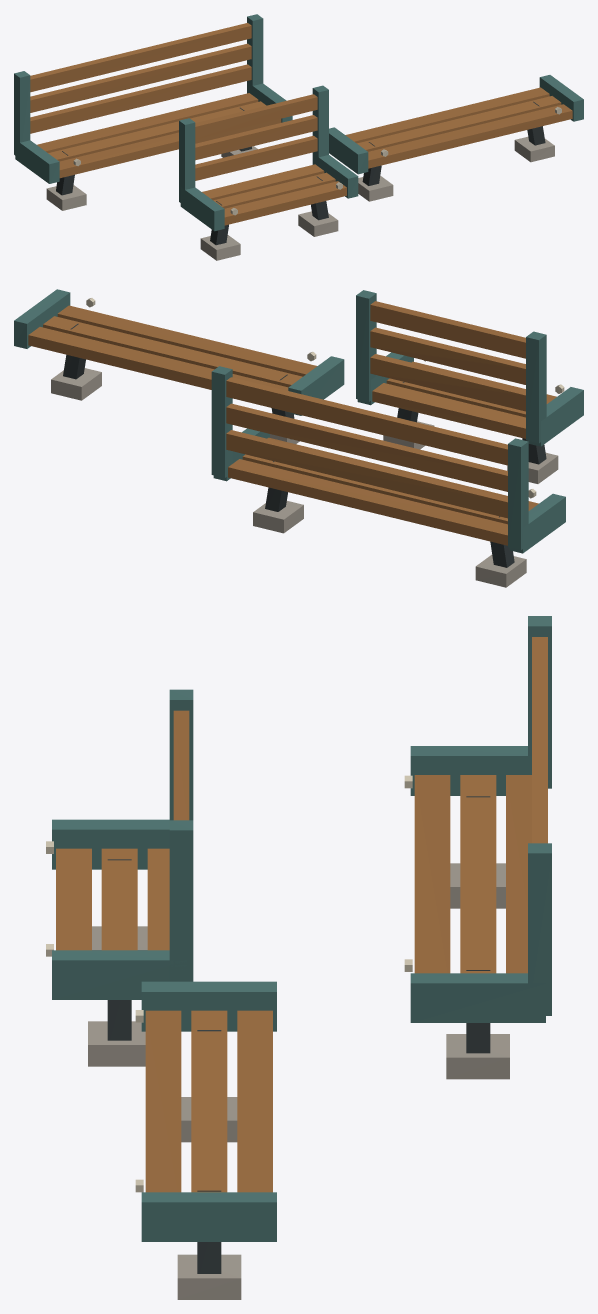
The model's file is Benches.glb.
3 renders of one model, top to bottom at view 1: azimuth 30°, elevation 25°; view 2: azimuth 150°, elevation 25°; view 3: azimuth 270°, elevation 25°, orthographic. The views are drawn at different scales.
Visible parts, largest first — view 1: benches-static-benches-warm-timber-slats, benches-static-benches-muted-teal-end-plates, benches-static-benches-pale-stone-feet, benches-static-benches-charcoal-supports; view 2: benches-static-benches-warm-timber-slats, benches-static-benches-muted-teal-end-plates, benches-static-benches-pale-stone-feet, benches-static-benches-charcoal-supports; view 3: benches-static-benches-warm-timber-slats, benches-static-benches-muted-teal-end-plates, benches-static-benches-pale-stone-feet, benches-static-benches-charcoal-supports.
Part boxes in pixels (x1,y1,x2,y2): benches-static-benches-warm-timber-slats: [30, 23, 572, 225]; benches-static-benches-muted-teal-end-plates: [14, 14, 583, 231]; benches-static-benches-pale-stone-feet: [46, 136, 554, 260]; benches-static-benches-charcoal-supports: [56, 101, 545, 245]; benches-static-benches-warm-timber-slats: [28, 301, 556, 545]; benches-static-benches-muted-teal-end-plates: [14, 289, 583, 553]; benches-static-benches-pale-stone-feet: [51, 368, 558, 587]; benches-static-benches-charcoal-supports: [63, 323, 546, 567]; benches-static-benches-warm-timber-slats: [56, 637, 547, 1192]; benches-static-benches-muted-teal-end-plates: [52, 616, 551, 1241]; benches-static-benches-pale-stone-feet: [88, 863, 509, 1299]; benches-static-benches-charcoal-supports: [107, 796, 490, 1273].
Size of the model in its own units: 5.42 by 1.37 by 2.54.
